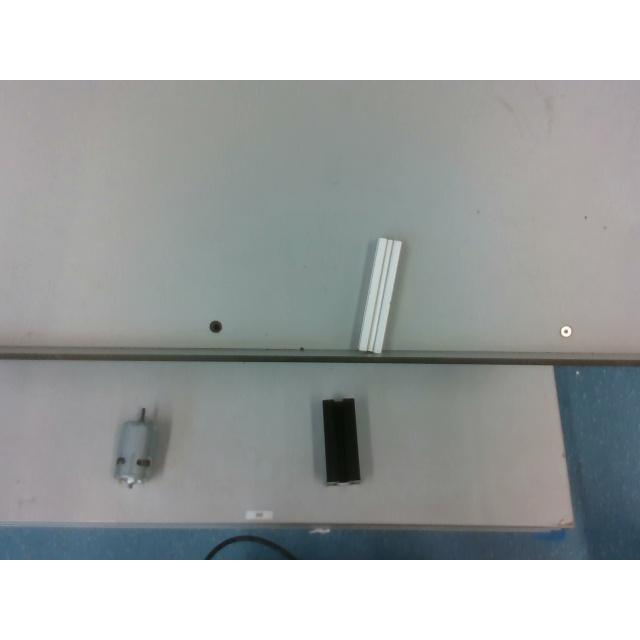F20_20_G: (358, 237, 404, 353)
Motor2: (114, 407, 156, 489)
S40_40_B: (322, 398, 358, 484)
